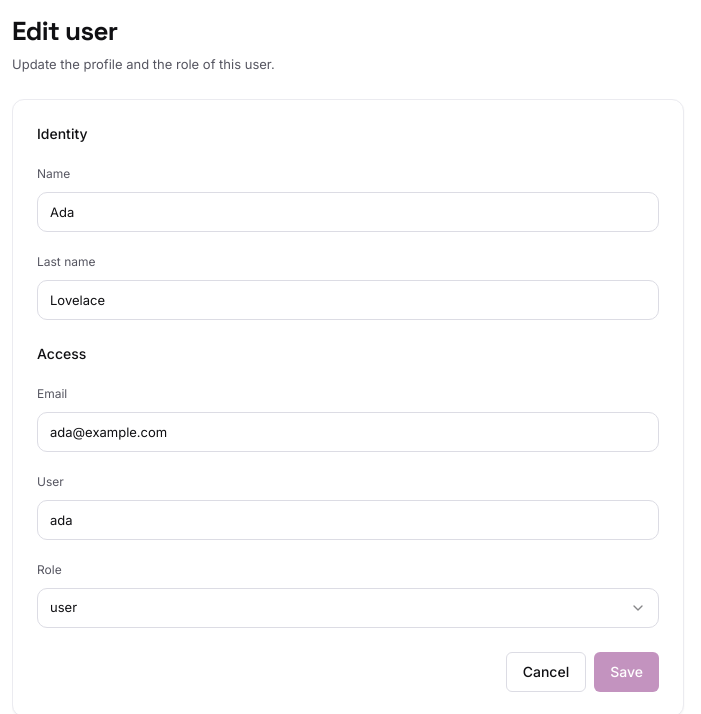
Test: edit user form — role impact › shows the impact notice only after the role changes
Expected: the field labelled "Name" holds "Ada", 37,192 -> 659,232
Expected: the text "Changing the role may change the effective permissions of this user." is not shown
Click the dropdown named "Role" at (64, 607), box 37,588 -> 659,628
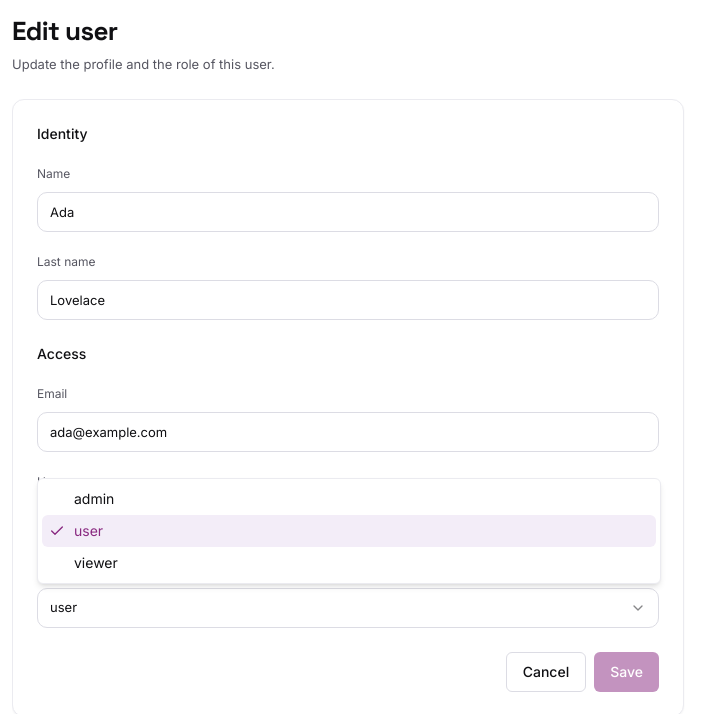
Click the option "admin" at (94, 498), box 74,490 -> 114,507
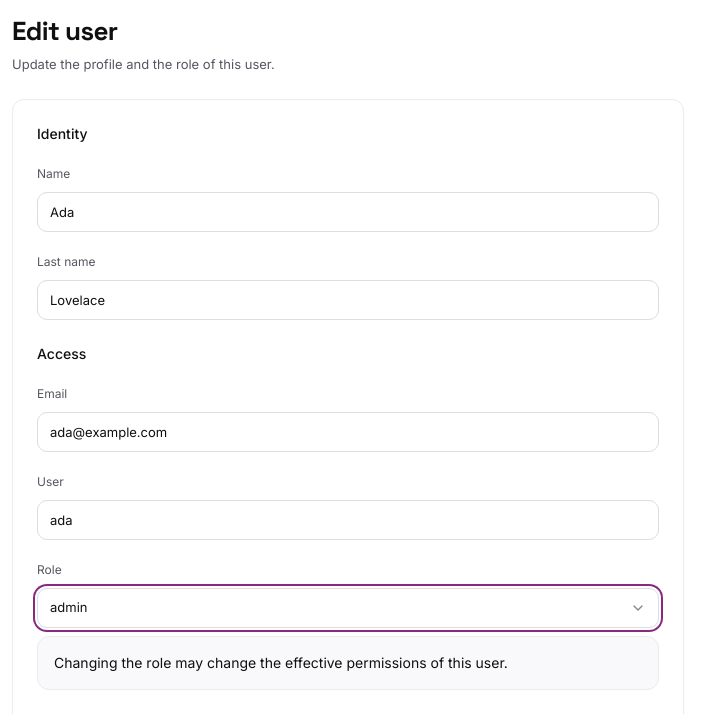
Now the text "Changing the role may change the effective permissions of this user." is shown, box 54,654 -> 508,670
